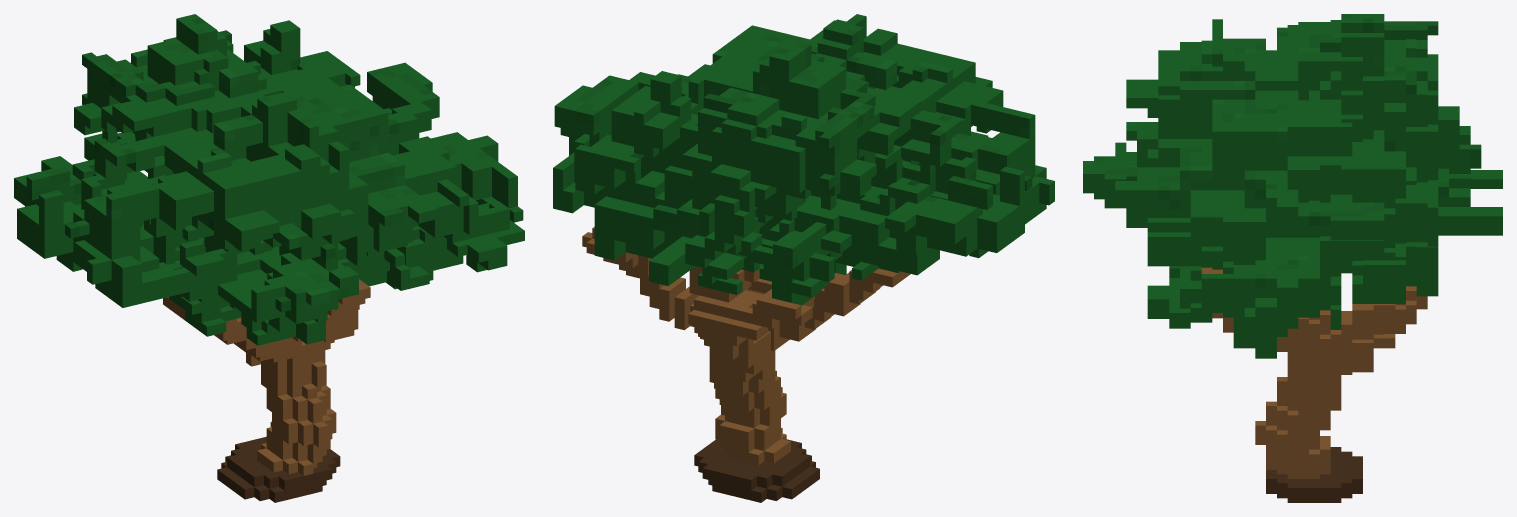
File: 2_3 gravi.obj
3 views of the same model, side by side, from view 1: azimuth 30°, elevation 25°; view 2: azimuth 150°, elevation 25°; view 3: azimuth 270°, elevation 25° (orthographic). The views are drawn at different scales.
Size of the model in its own units: 4.7 by 4.5 by 3.9.
1 material, 1 textured.
